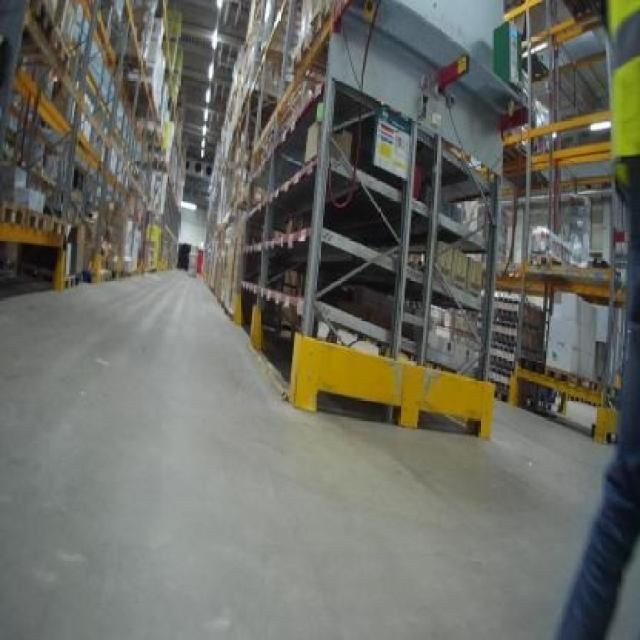floor: (0, 269, 608, 637), (611, 554, 637, 637)
pallets: (288, 332, 491, 435)
